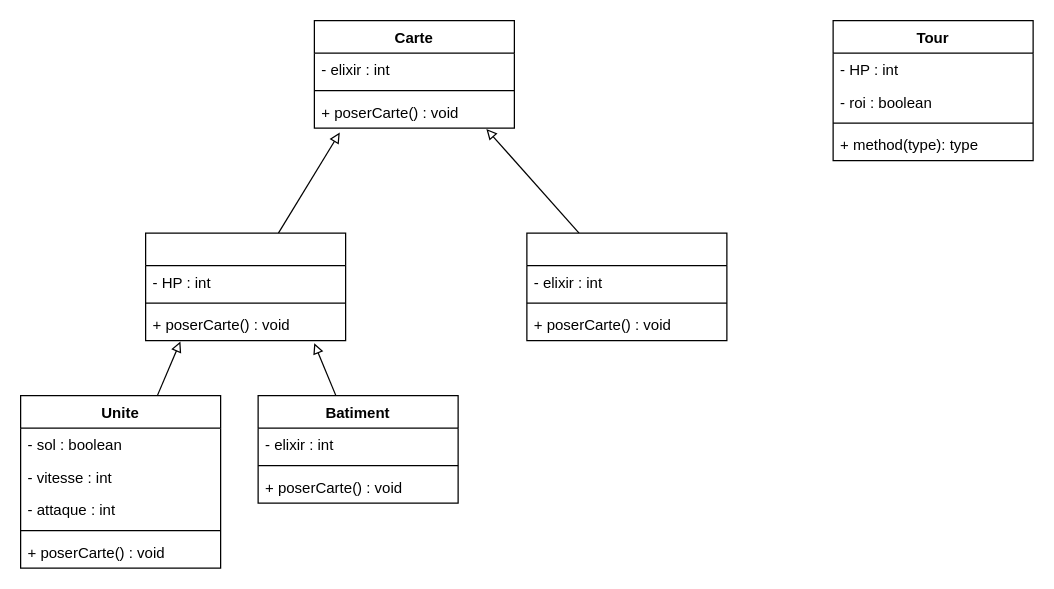
The diagram is 1054 pixels wide and 589 high, and some of its shapes have lost their labels. Here are the shapes that lost their labels. From the top down, the box of each, then its label:
(144, 232, 346, 341): Physique
(526, 232, 727, 341): Sort
